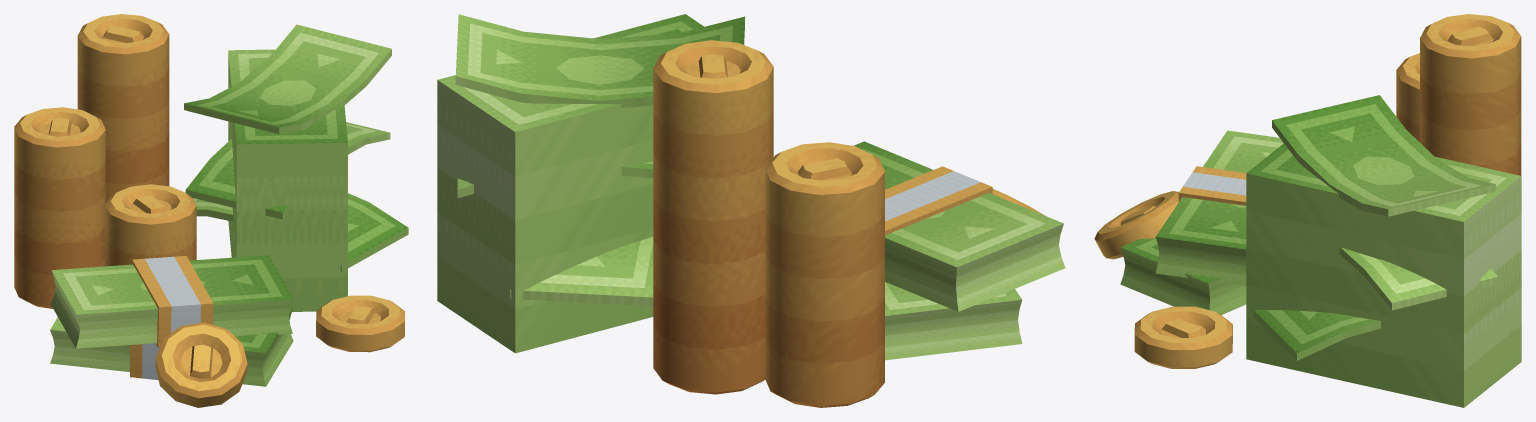
The model's file is Money_Pile_Medium.gltf.
3 renders of one model, left to right at view 1: azimuth 30°, elevation 25°; view 2: azimuth 150°, elevation 25°; view 3: azimuth 270°, elevation 25°, orthographic. The views are drawn at different scales.
Visible parts, largest first — view 1: Money_Pile_Medium; view 2: Money_Pile_Medium; view 3: Money_Pile_Medium.
Part boxes in pixels (left/top/right/bottom): Money_Pile_Medium: left=14, top=14, right=408, bottom=407; Money_Pile_Medium: left=437, top=14, right=1065, bottom=407; Money_Pile_Medium: left=1094, top=14, right=1521, bottom=407.
Bounding box in the file's own units: 1.21 × 0.71 × 1.04.
Materials: 1 (1 with a texture image).
